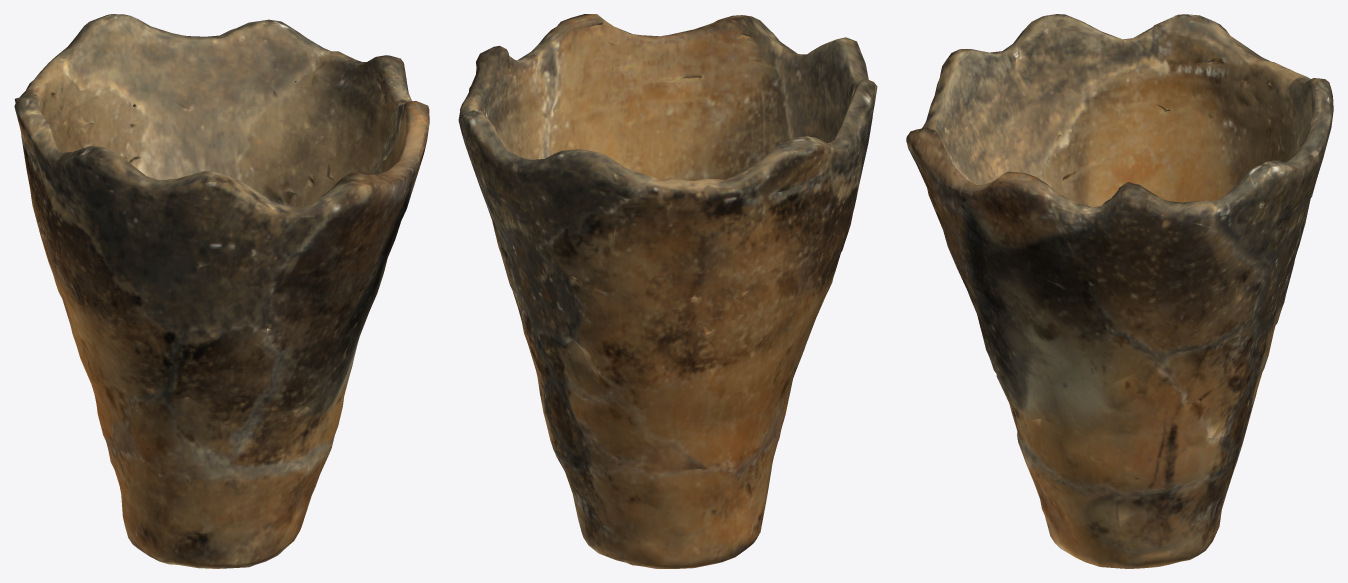
3 views of the same model, side by side, from view 1: azimuth 30°, elevation 25°; view 2: azimuth 150°, elevation 25°; view 3: azimuth 270°, elevation 25° (orthographic). The views are drawn at different scales.
Parts seen in each view (by area): view 1: NM0159.low; view 2: NM0159.low; view 3: NM0159.low.
Part boxes in pixels (box(x1,y1,x2,y2)): NM0159.low: box(14, 14, 429, 568); NM0159.low: box(458, 14, 877, 568); NM0159.low: box(906, 14, 1333, 568).
Size of the model in its own units: 191 by 232 by 200.
1 material, 1 textured.
